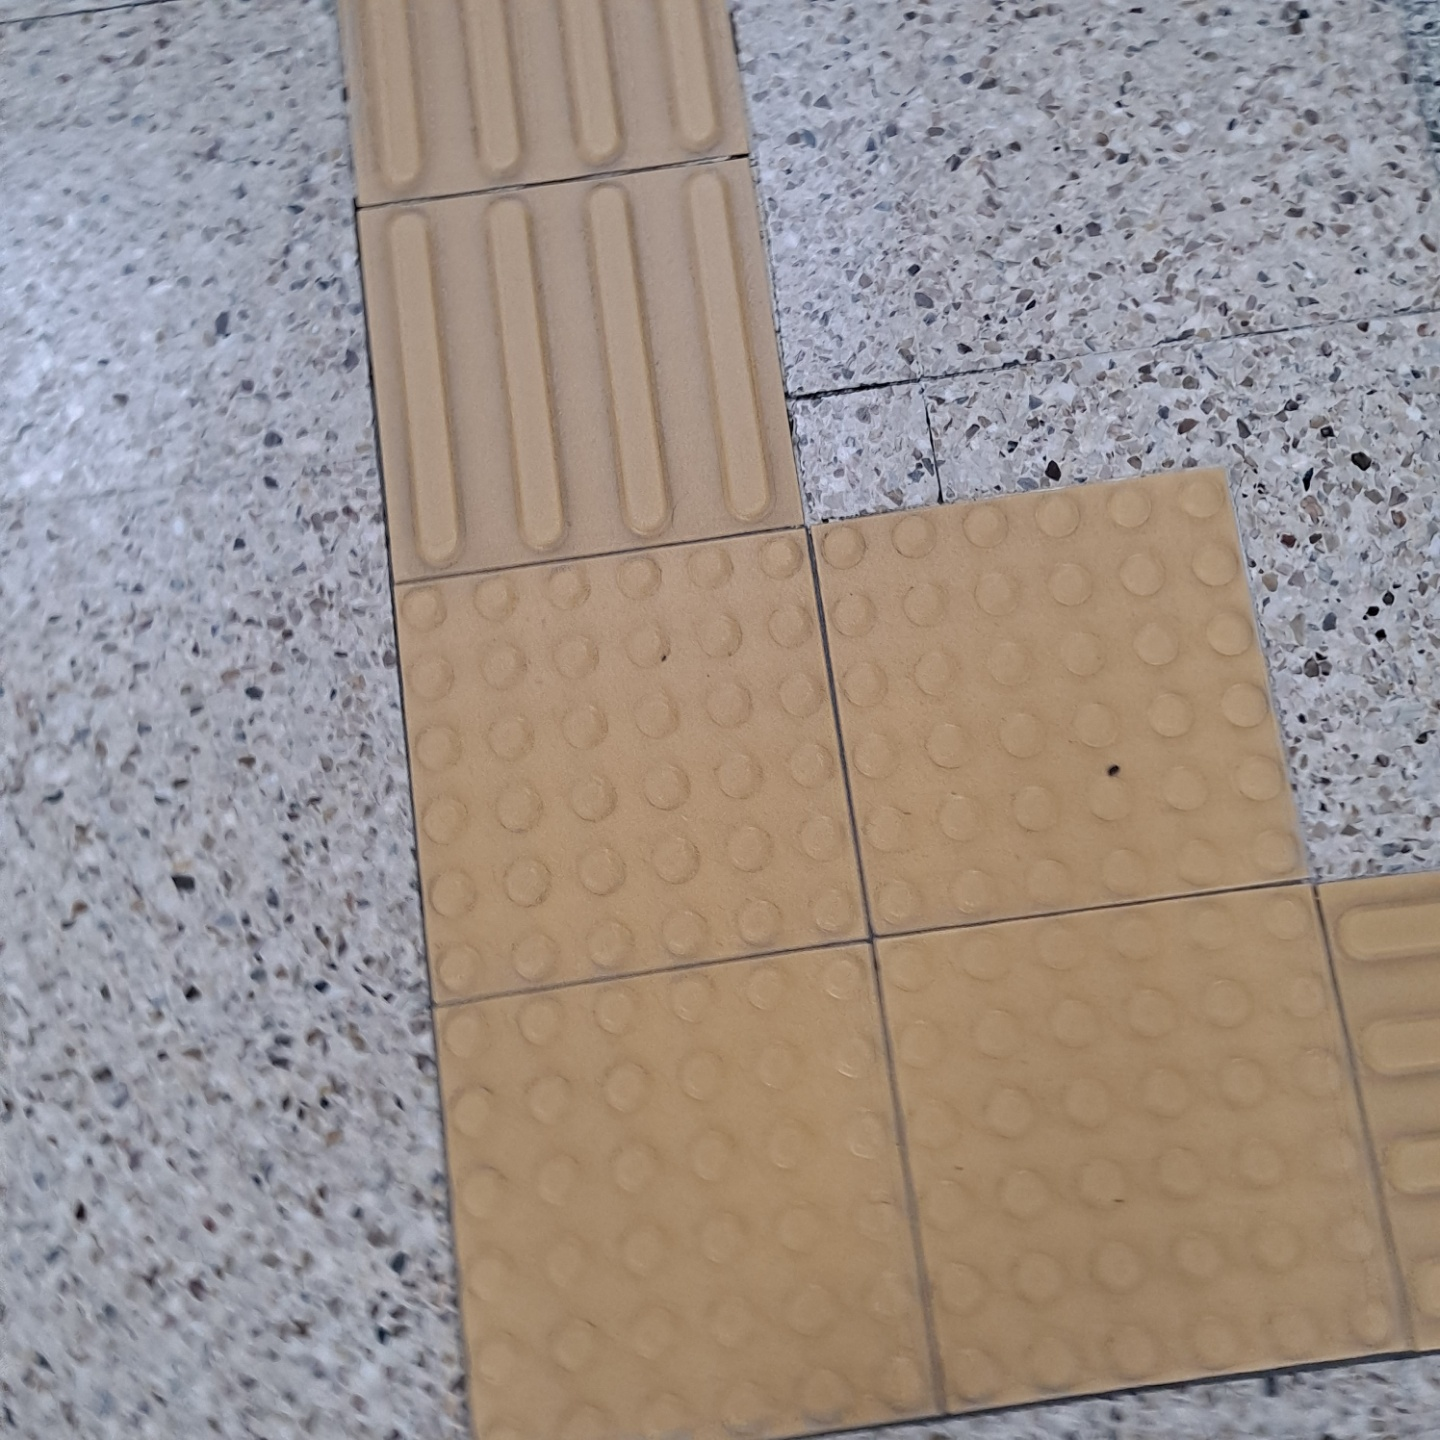guideBlock: (360, 218, 800, 546), (345, 21, 778, 204)
warningBlock: (876, 899, 1391, 1390), (448, 953, 903, 1440), (847, 504, 1274, 915), (404, 572, 831, 956)
